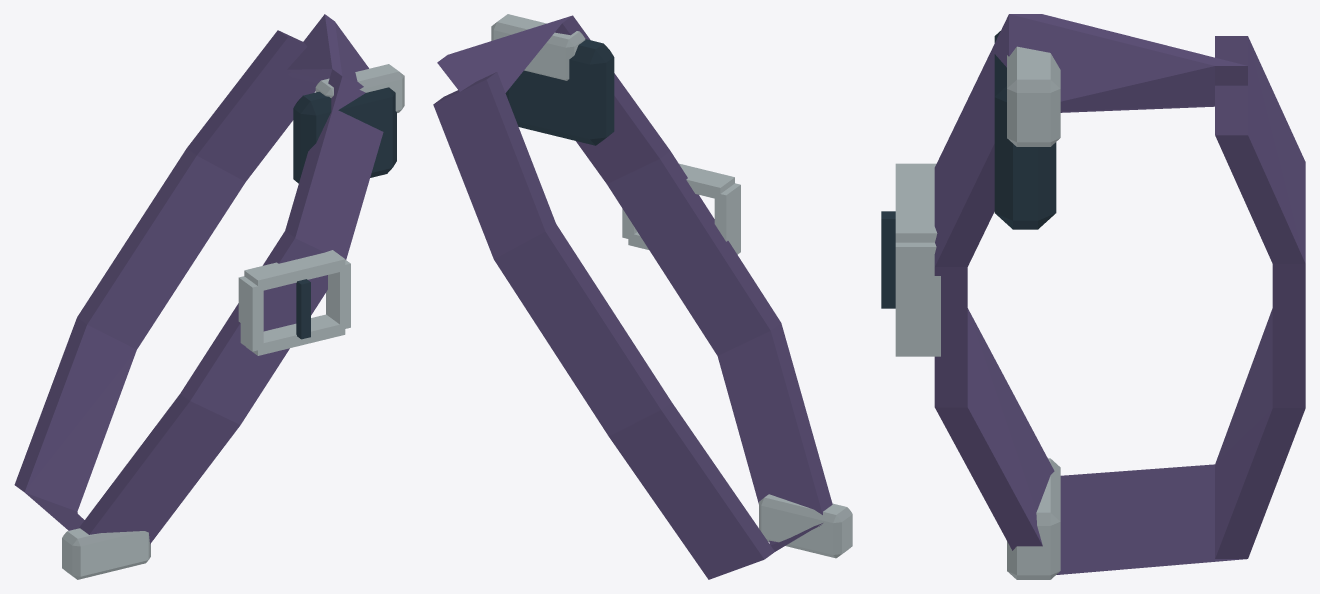
The model's file is ping_bag_strap.glb.
3 views of the same model, side by side, from view 1: azimuth 30°, elevation 25°; view 2: azimuth 150°, elevation 25°; view 3: azimuth 270°, elevation 25° (orthographic). The views are drawn at different scales.
Visible parts, largest first — view 1: ping_bag_strap; view 2: ping_bag_strap; view 3: ping_bag_strap.
Part boxes in pixels (box(x1,y1,x2,y2)): ping_bag_strap: box(14, 14, 404, 579); ping_bag_strap: box(433, 14, 852, 579); ping_bag_strap: box(881, 14, 1305, 579).
Size of the model in its own units: 0.7861 by 1 by 0.5327.
